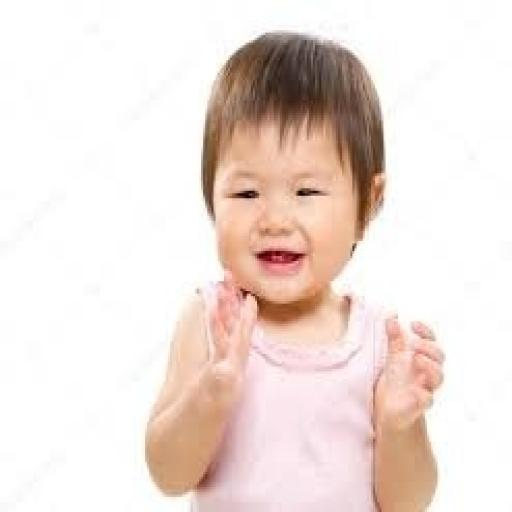clapping: (141, 28, 446, 510)
